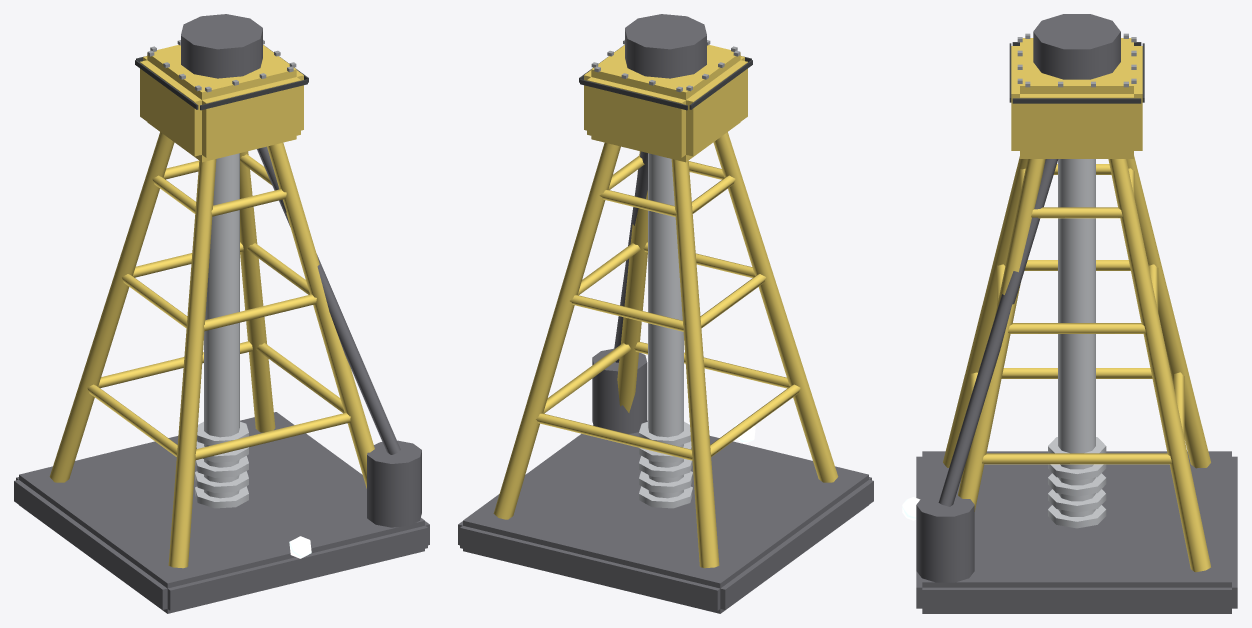
The model's file is drill.fbx.
3 renders of one model, left to right at view 1: azimuth 30°, elevation 25°; view 2: azimuth 150°, elevation 25°; view 3: azimuth 270°, elevation 25°, orthographic. The views are drawn at different scales.
Visible parts, largest first — view 1: drill; view 2: drill; view 3: drill.
Boxes of the visible parts, <box> form: drill: <box>14,14,429,613</box>; drill: <box>458,14,873,613</box>; drill: <box>916,14,1237,613</box>.
Bounding box in the file's own units: 2.2 × 4.1 × 2.3.
